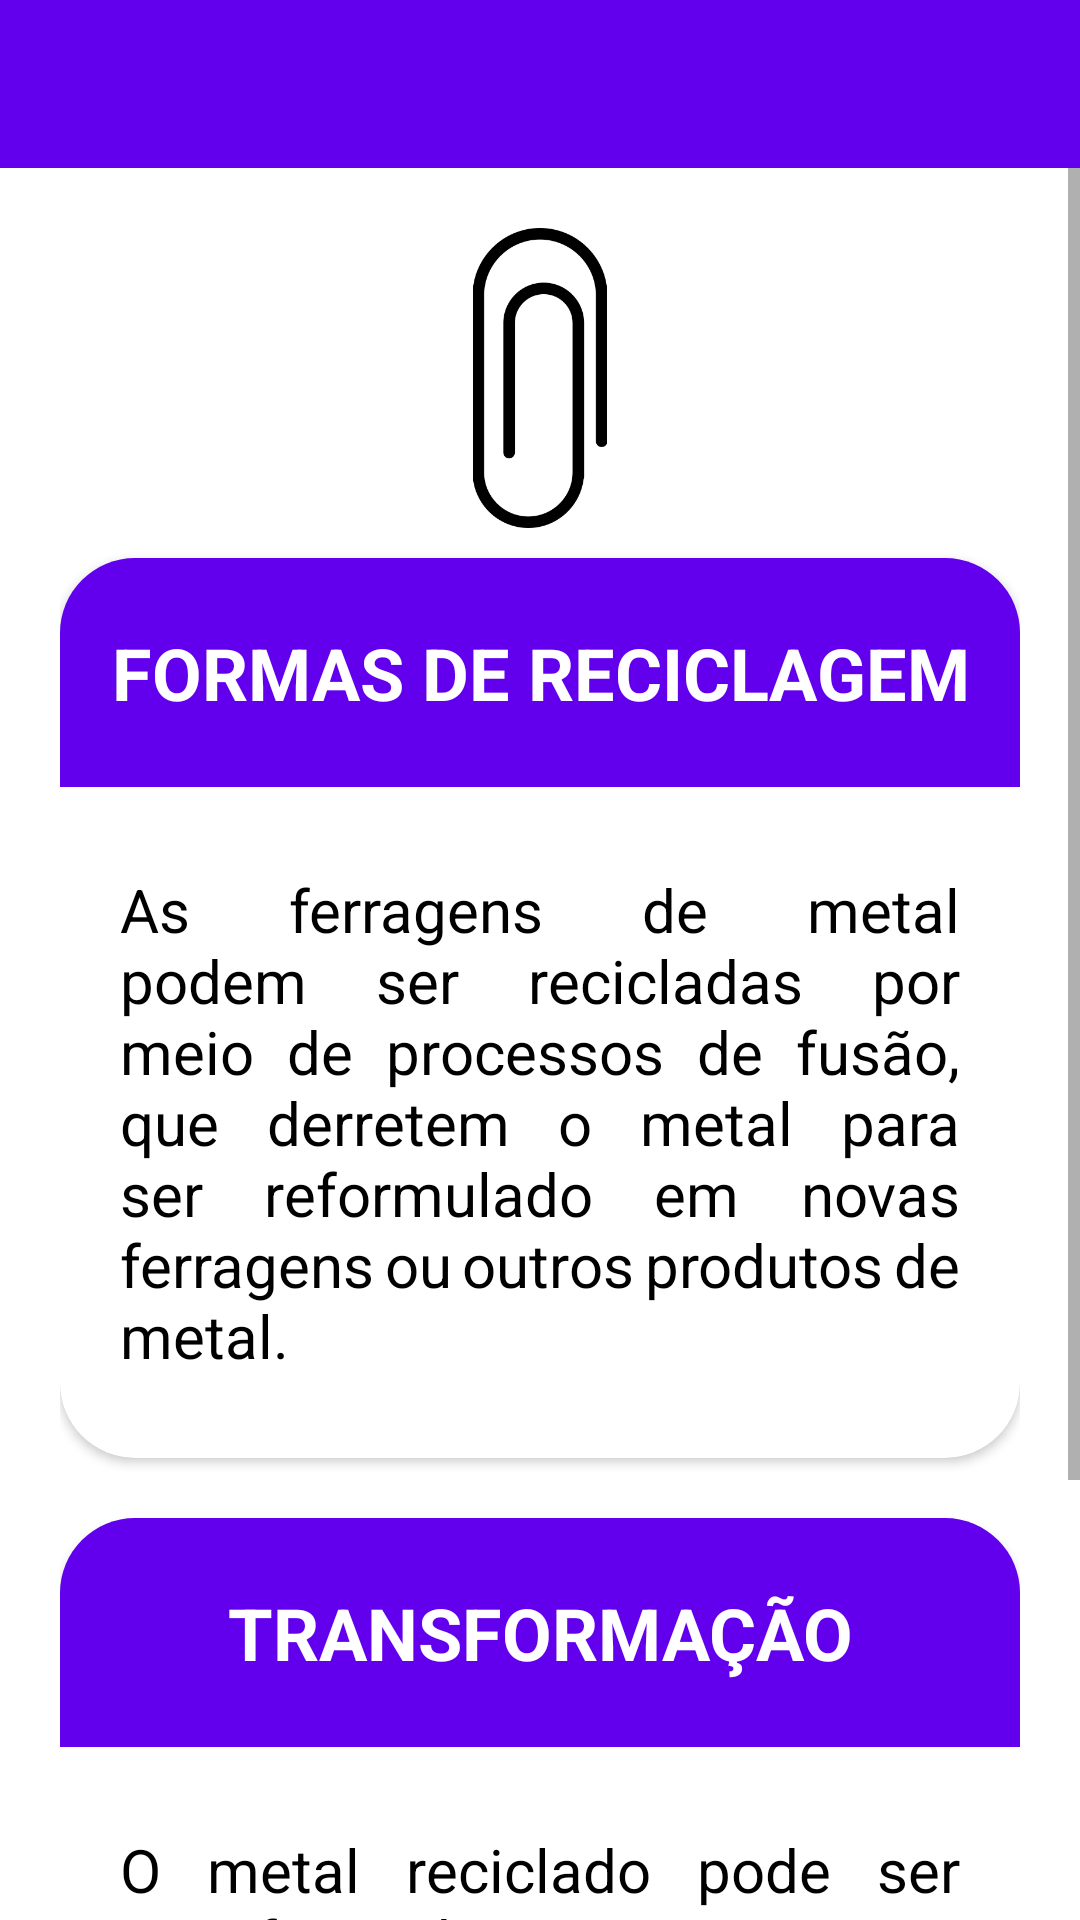

Screen size 1080*1920. Icon name, then its box in pixels as (x1, y1, x2, y2):
grampo: (473, 228, 607, 528)
